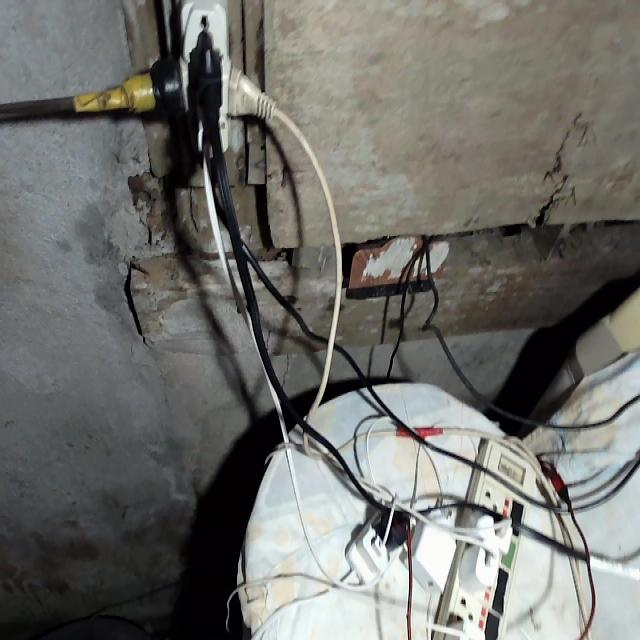-: (130, 0, 270, 163)
